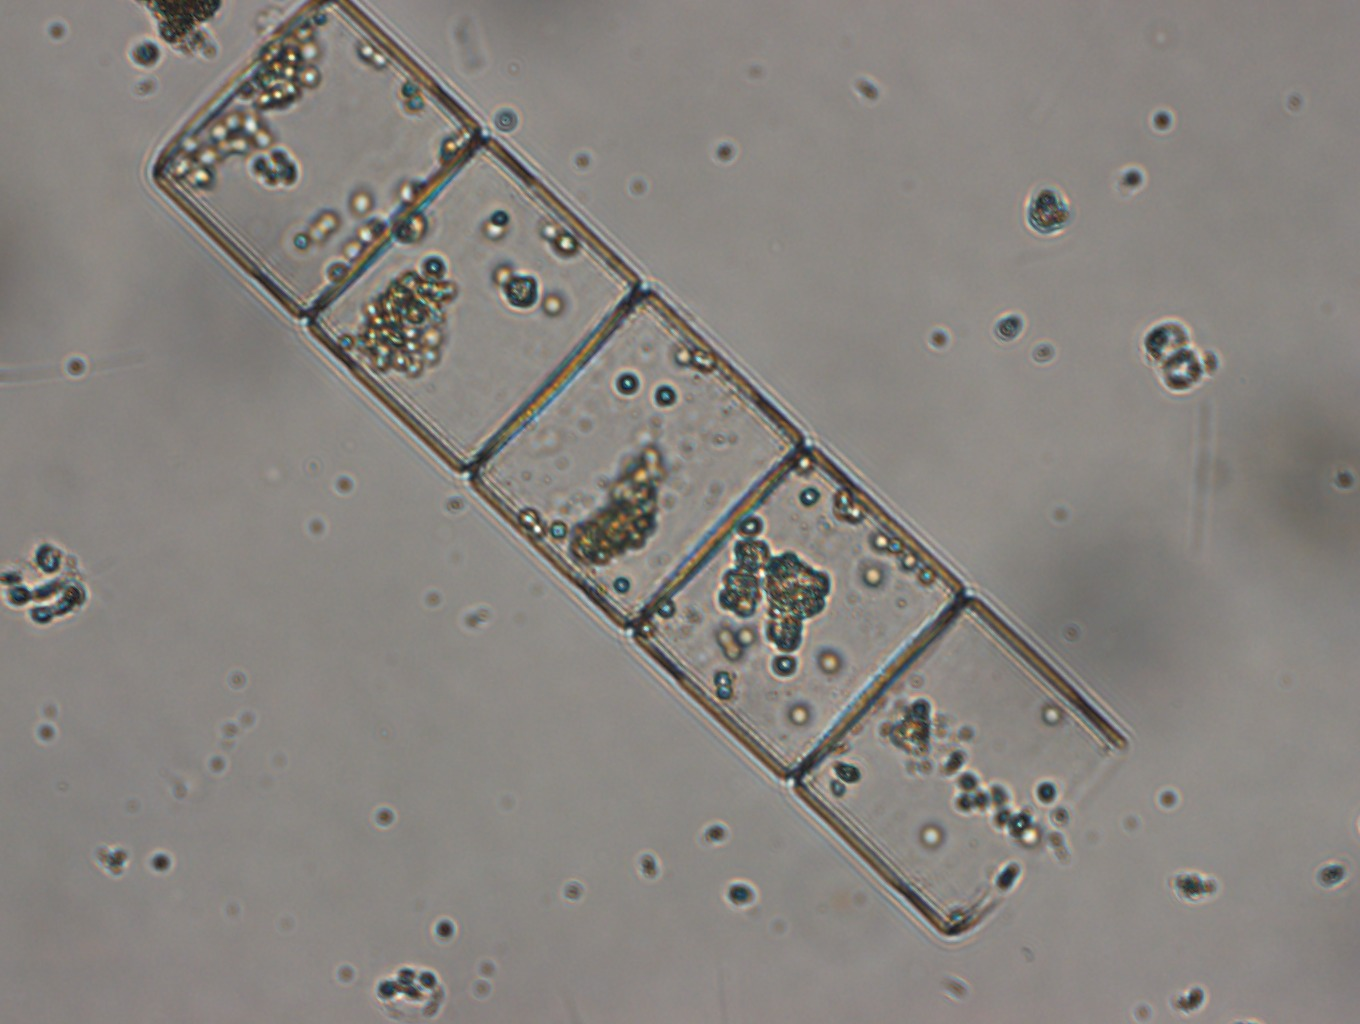guinardia flaccida: (148, 1, 1135, 934)
